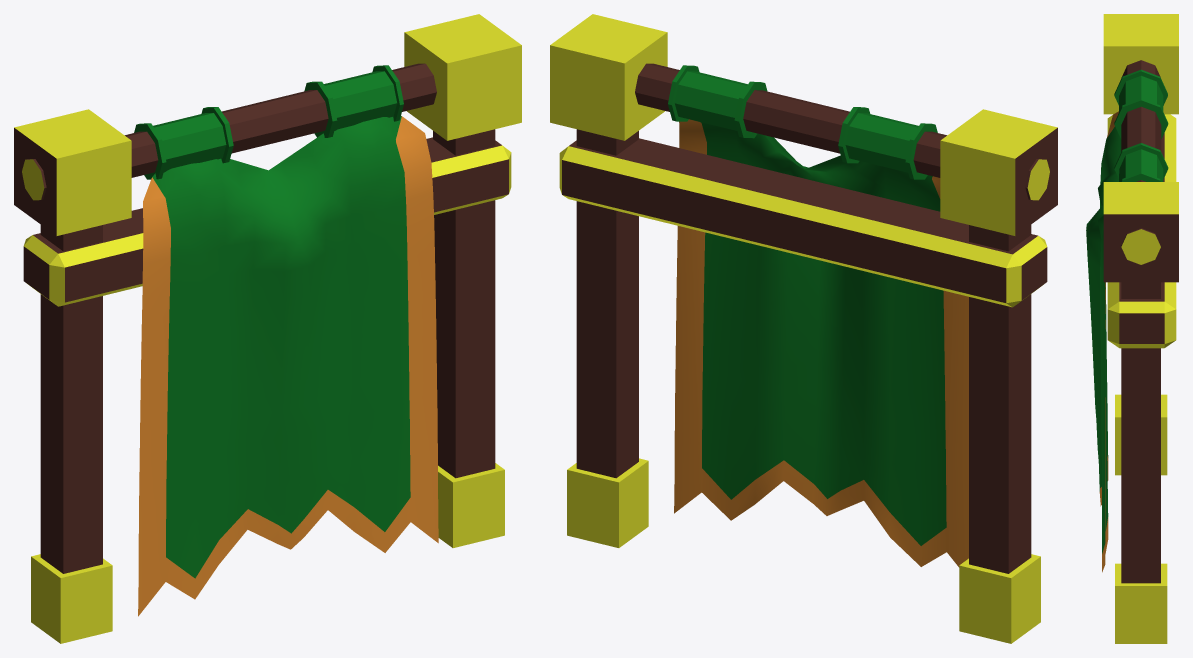
Rendered from Cortina1.fbx.
The picture shows the model from 3 angles, left to right: view 1: azimuth 30°, elevation 25°; view 2: azimuth 150°, elevation 25°; view 3: azimuth 270°, elevation 25°; orthographic projection. The views are drawn at different scales.
Parts seen in each view (by area): view 1: Cube.005; view 2: Cube.005; view 3: Cube.005.
Part boxes in pixels (x1=…): Cube.005: x1=14, y1=14, x2=521, y2=643; Cube.005: x1=550, y1=14, x2=1057, y2=643; Cube.005: x1=1086, y1=14, x2=1178, y2=643.
Size of the model in its own units: 1 by 1 by 0.1938.
